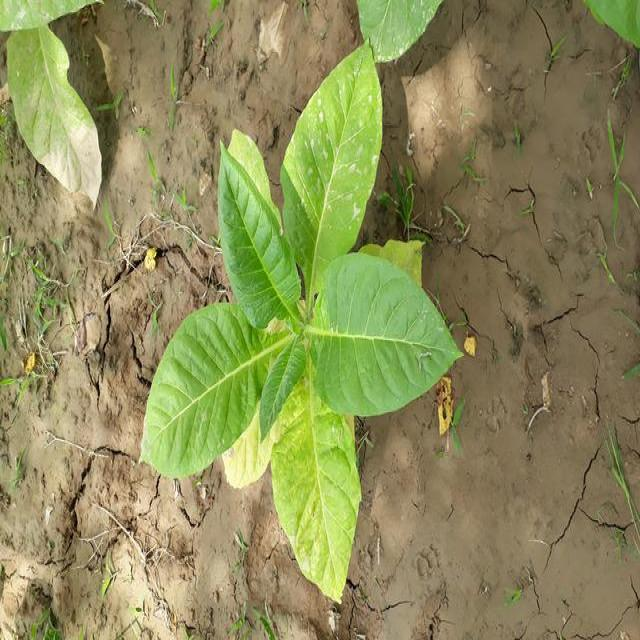crop: (145, 46, 459, 603), (9, 0, 127, 208), (366, 0, 433, 67), (599, 0, 640, 47)
